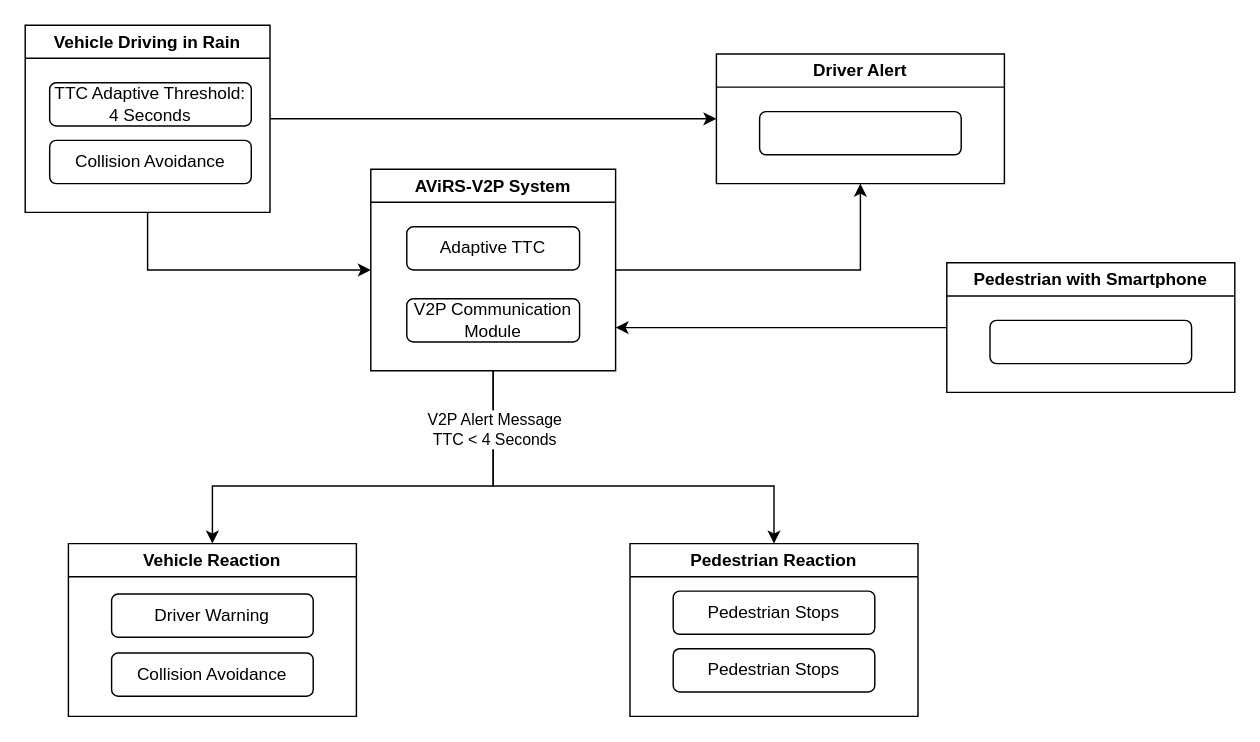
Image size: 1260x742. Some labels were removed from this diagram. Here are the shapes that lost their labels. From the top down, the centre of each, then its label:
the point at 859,132: Dashboard Alert & Audible Warning
the point at 1090,341: Vibration & Audio Alert
